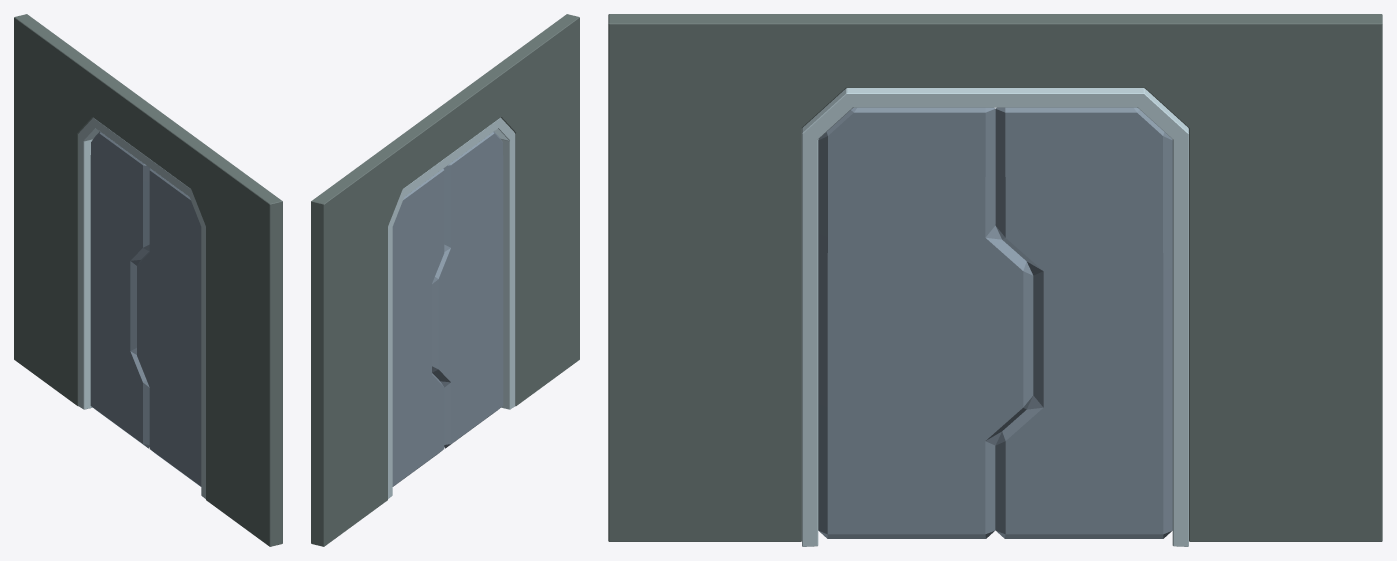
The model's file is MC_EX_Test_Wall_Door_02.fbx.
The picture shows the model from 3 angles, left to right: view 1: azimuth 30°, elevation 25°; view 2: azimuth 150°, elevation 25°; view 3: azimuth 270°, elevation 25°; orthographic projection. The views are drawn at different scales.
Visible parts, largest first — view 1: Plane.054; view 2: Plane.054; view 3: Plane.054.
Boxes of the visible parts, x1=… form: Plane.054: x1=14, y1=14, x2=282, y2=546; Plane.054: x1=311, y1=14, x2=579, y2=546; Plane.054: x1=608, y1=14, x2=1382, y2=546.
Size of the model in its own units: 22.75 by 370 by 500.
